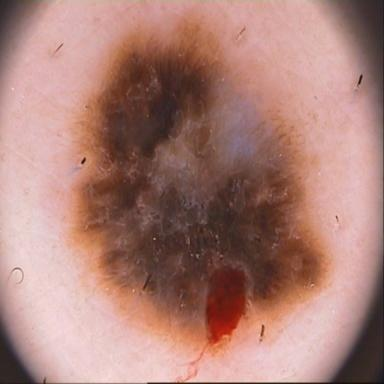nevus: (73, 22, 330, 364)
